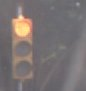Red: (8, 14, 39, 82)
